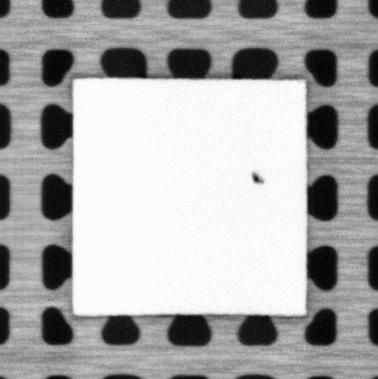DIE_INK: (250, 171, 264, 185)
